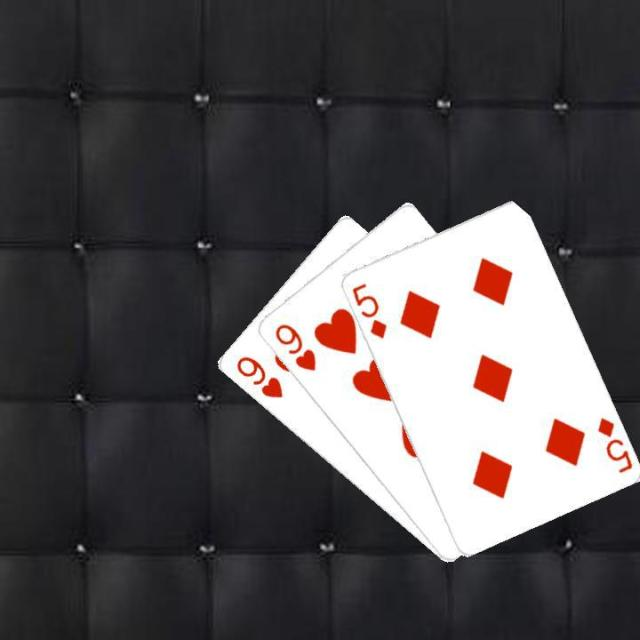5D: (593, 412, 635, 474), (348, 279, 388, 341)
9H: (231, 352, 285, 400), (270, 319, 318, 373)
